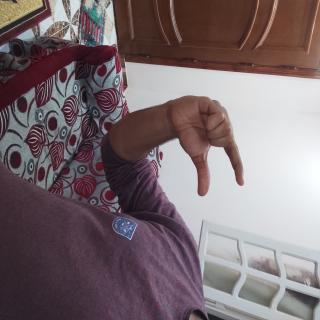DELL: (65, 93, 153, 212)
